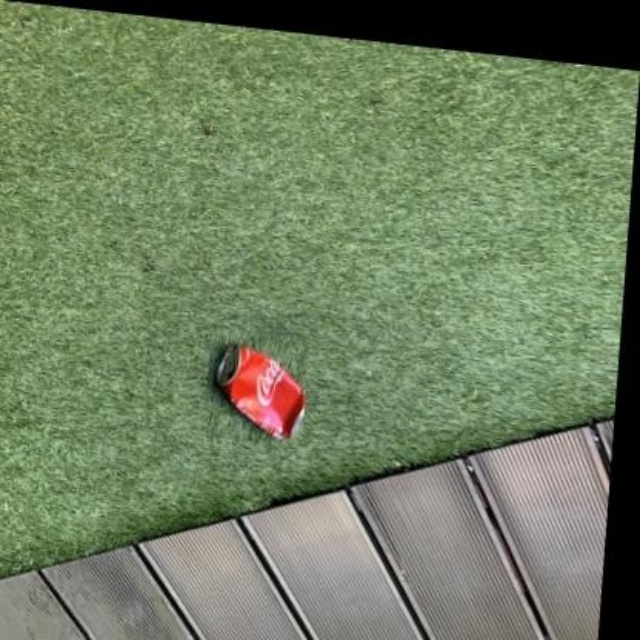trash: (215, 345, 305, 438)
